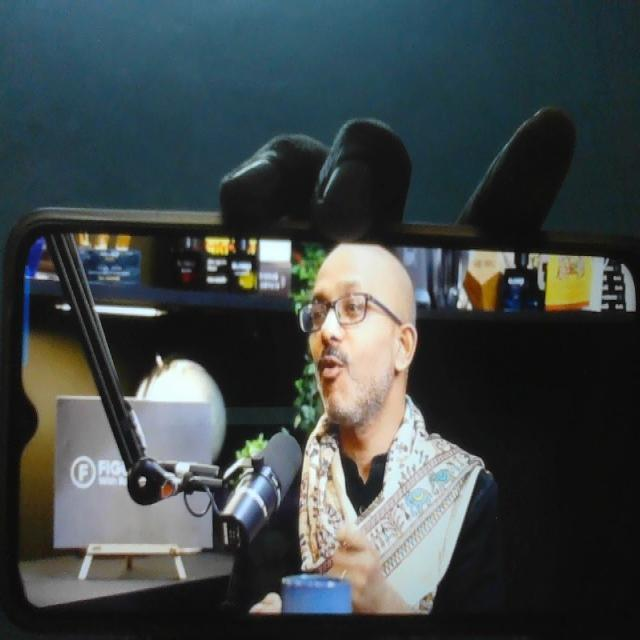fake: (293, 188, 425, 437)
